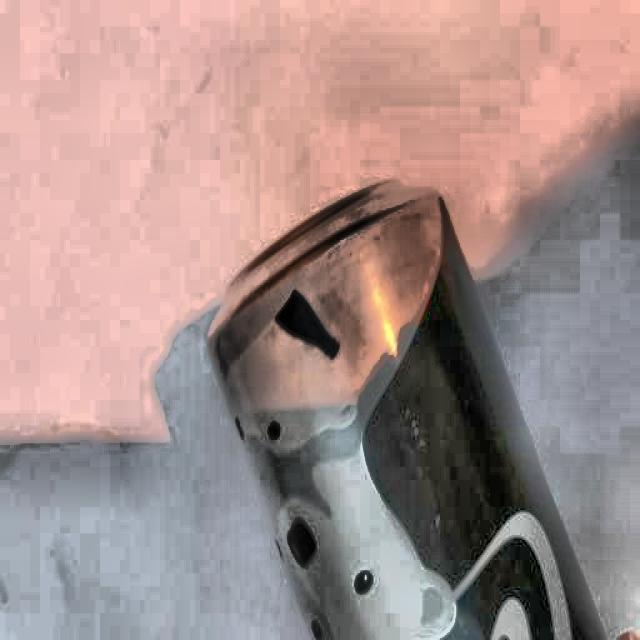metal: (207, 181, 640, 640)
